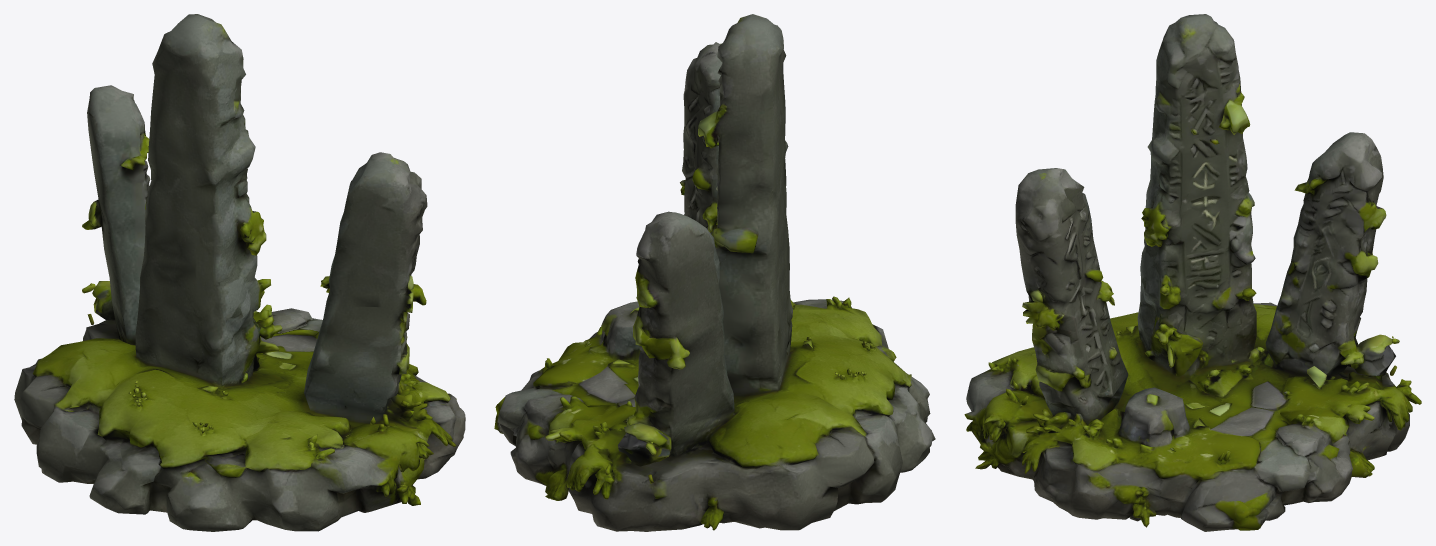
File: 4cb3a240-d8e1-4b62-b19f-9174b54a3040-pbr_model.glb
The picture shows the model from 3 angles, left to right: view 1: azimuth 30°, elevation 25°; view 2: azimuth 150°, elevation 25°; view 3: azimuth 270°, elevation 25°; orthographic projection. The views are drawn at different scales.
Parts seen in each view (by area): view 1: tripo_node_4cb3a240-d8e1-4b62-b19f-9174b54a3040; view 2: tripo_node_4cb3a240-d8e1-4b62-b19f-9174b54a3040; view 3: tripo_node_4cb3a240-d8e1-4b62-b19f-9174b54a3040.
Part boxes in pixels (x1,y1,x2,y2): tripo_node_4cb3a240-d8e1-4b62-b19f-9174b54a3040: [14, 14, 465, 531]; tripo_node_4cb3a240-d8e1-4b62-b19f-9174b54a3040: [494, 14, 935, 531]; tripo_node_4cb3a240-d8e1-4b62-b19f-9174b54a3040: [964, 14, 1421, 531].
Size of the model in its own units: 0.881 by 0.9786 by 0.971.
Materials: 1 (1 with a texture image).
